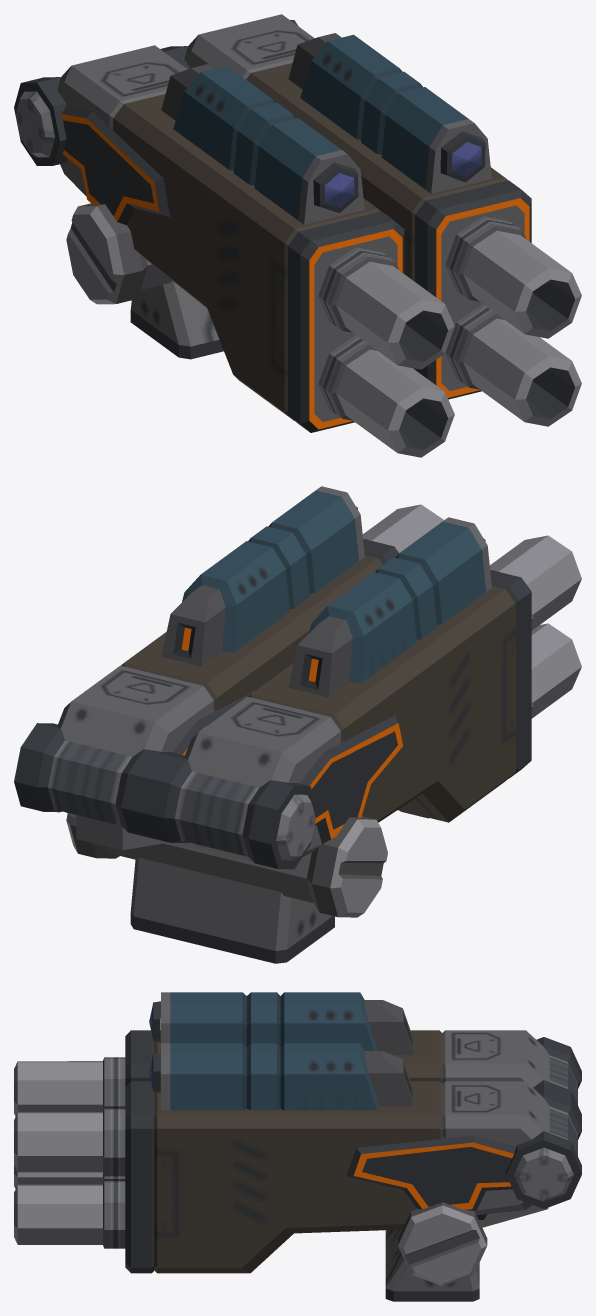
File: SM_Mech_Arm_01_Weapon_Forearm_02.fbx
The picture shows the model from 3 angles, top to bottom: view 1: azimuth 30°, elevation 25°; view 2: azimuth 150°, elevation 25°; view 3: azimuth 270°, elevation 25°; orthographic projection. The views are drawn at different scales.
Visible parts, largest first — view 1: SM_Mech_Arm_01_Weapon_Forearm_02; view 2: SM_Mech_Arm_01_Weapon_Forearm_02; view 3: SM_Mech_Arm_01_Weapon_Forearm_02.
Part boxes in pixels (bbox=[...]): SM_Mech_Arm_01_Weapon_Forearm_02: bbox=[14, 14, 581, 457]; SM_Mech_Arm_01_Weapon_Forearm_02: bbox=[14, 486, 581, 963]; SM_Mech_Arm_01_Weapon_Forearm_02: bbox=[14, 992, 581, 1301].
Size of the model in its own units: 53.03 by 55.36 by 115.
